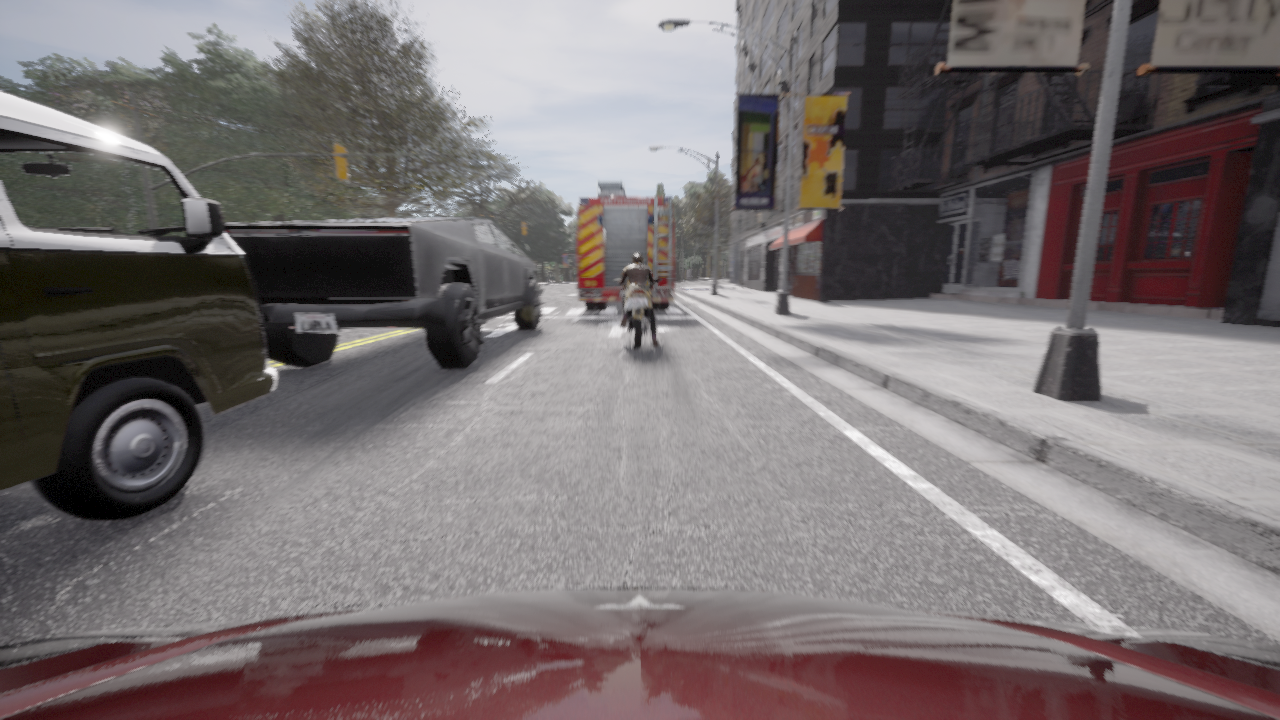cyclist: (0, 588, 1279, 719), (224, 218, 544, 369), (576, 179, 675, 310), (614, 277, 661, 349)
